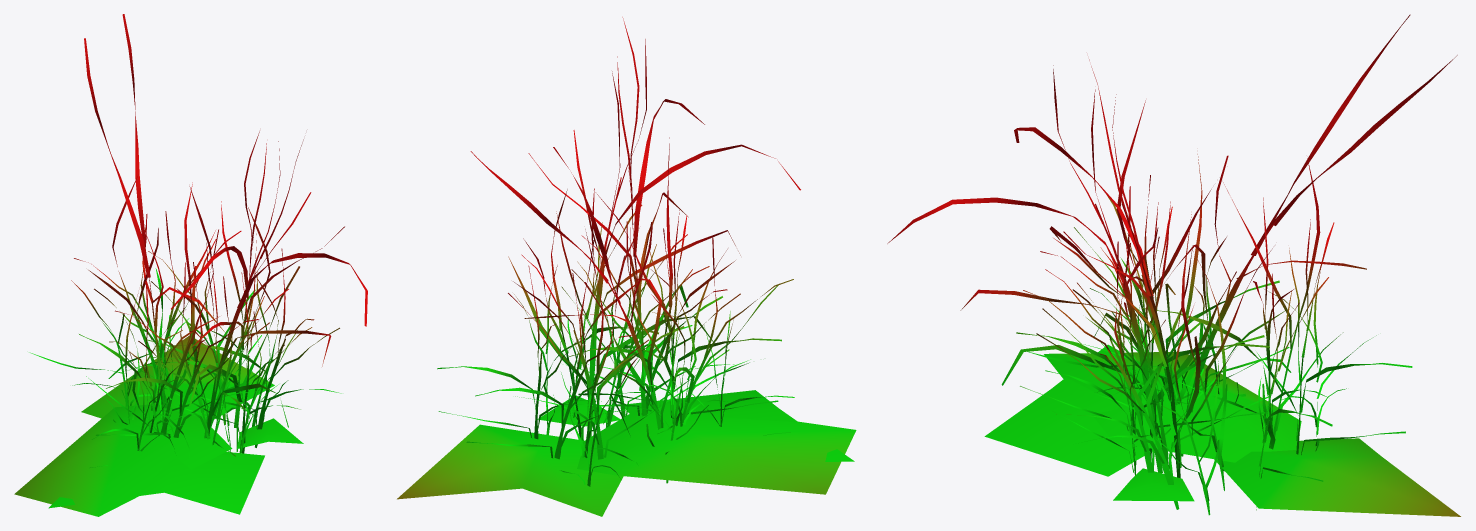
File: Kikuyu Grass_LOD2_Var12_wiljearqx.fbx
3 renders of one model, left to right at view 1: azimuth 30°, elevation 25°; view 2: azimuth 150°, elevation 25°; view 3: azimuth 270°, elevation 25°, orthographic. The views are drawn at different scales.
Visible parts, largest first — view 1: _rihc_Var12_LOD2; view 2: _rihc_Var12_LOD2; view 3: _rihc_Var12_LOD2.
Part boxes in pixels (left/top/right/bottom): _rihc_Var12_LOD2: left=14, top=14, right=367, bottom=516; _rihc_Var12_LOD2: left=397, top=17, right=856, bottom=516; _rihc_Var12_LOD2: left=887, top=14, right=1460, bottom=516.
Bounding box in the file's own units: 33.22 × 37.66 × 43.84.
